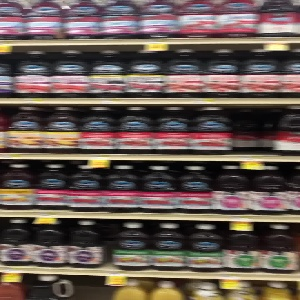void: (228, 97, 275, 158)
